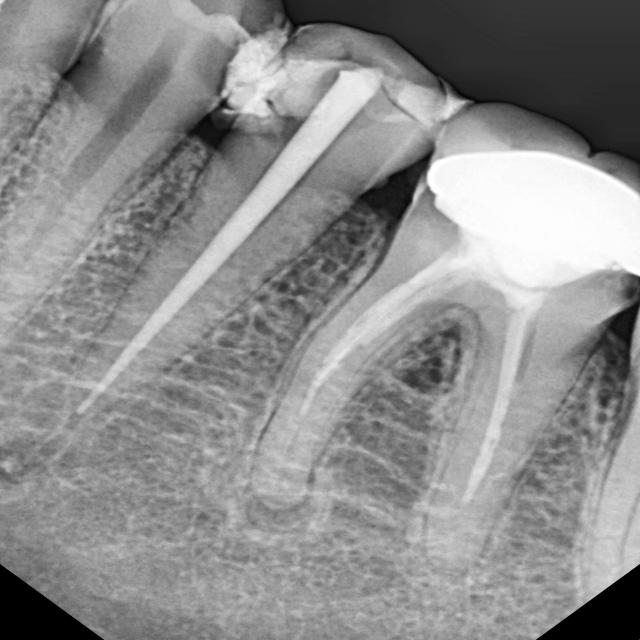RCT: (251, 296, 527, 544)
